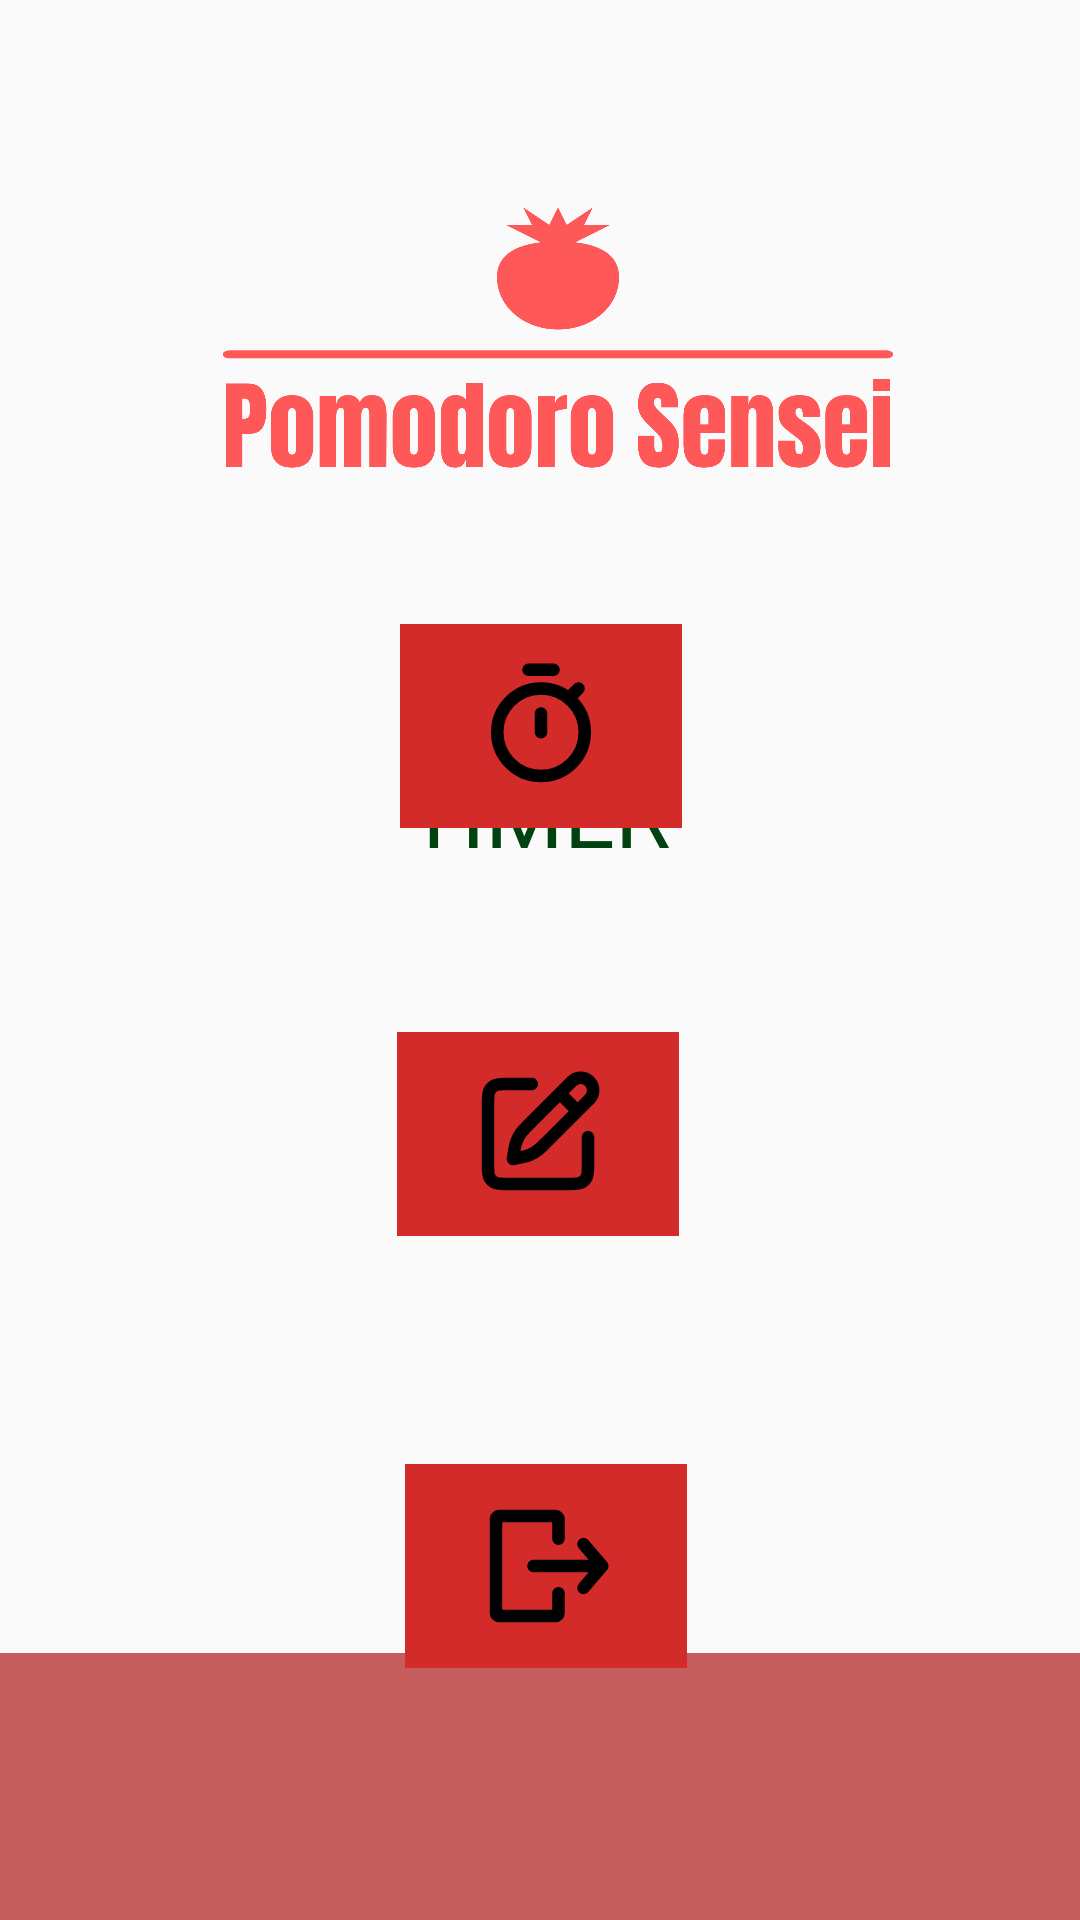

Locate icon controls on the screen. Image size 1080x1920, boxes as {"left": x1, "top": y1, "right": x2, "bottom": y2}.
Close the Program: {"left": 405, "top": 1464, "right": 687, "bottom": 1668}
